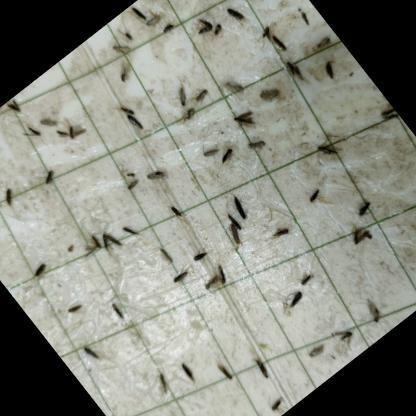prays_oleae: (51, 110, 92, 153), (276, 277, 316, 320), (164, 192, 202, 230), (239, 126, 277, 164), (208, 356, 245, 395), (72, 229, 110, 266), (142, 161, 178, 198), (226, 100, 262, 136), (318, 50, 352, 87), (114, 163, 148, 198), (300, 179, 333, 215), (348, 220, 380, 256), (24, 244, 57, 278), (372, 99, 404, 133), (64, 293, 96, 326), (314, 133, 346, 166), (196, 266, 228, 298), (264, 386, 297, 416), (118, 218, 149, 249), (73, 334, 103, 366), (256, 79, 286, 109), (362, 300, 392, 330), (354, 194, 384, 224), (108, 57, 138, 86), (219, 221, 247, 251), (210, 259, 238, 289), (246, 352, 274, 380), (266, 217, 294, 245), (196, 138, 224, 166), (331, 319, 359, 347), (222, 0, 249, 29), (104, 227, 130, 257), (178, 358, 204, 387), (0, 181, 24, 212), (170, 84, 198, 110), (152, 370, 178, 397), (112, 93, 138, 120), (170, 264, 196, 290), (290, 60, 314, 88), (179, 102, 204, 128), (122, 111, 147, 137), (156, 242, 180, 269), (192, 83, 217, 108), (112, 38, 138, 62), (302, 339, 327, 363), (216, 145, 240, 170), (270, 30, 293, 56), (223, 208, 245, 235), (296, 266, 320, 290), (190, 12, 214, 36), (233, 197, 256, 221), (3, 95, 26, 118), (38, 166, 60, 189), (95, 228, 116, 252), (276, 56, 297, 77), (22, 120, 42, 142), (109, 301, 128, 322), (161, 18, 179, 36), (256, 22, 274, 40), (145, 10, 163, 27), (212, 22, 227, 37), (0, 98, 13, 115)
